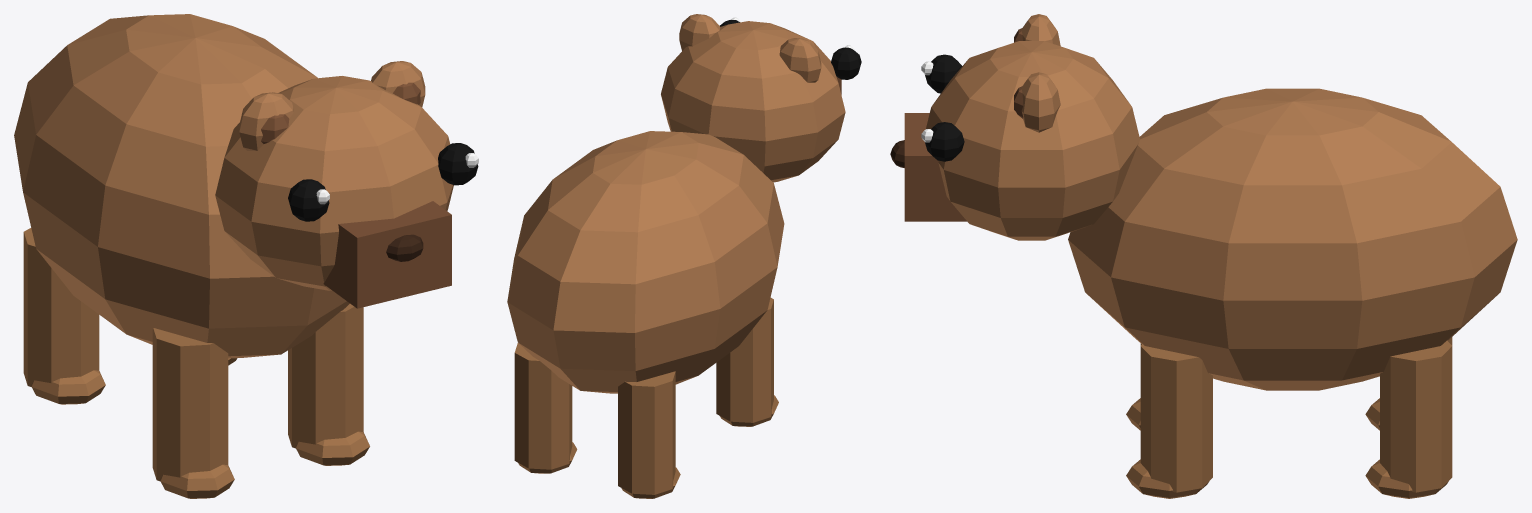
The model's file is capivara.glb.
The picture shows the model from 3 angles, left to right: view 1: azimuth 30°, elevation 25°; view 2: azimuth 150°, elevation 25°; view 3: azimuth 270°, elevation 25°; orthographic projection. The views are drawn at different scales.
Parts seen in each view (by area): view 1: body, head, leg_fr_mesh, snout, leg_fl_mesh, leg_br_mesh, ear_r, leg_fr_foot, leg_br_foot, leg_fl_foot, eye_r, eye_l (+3 smaller); view 2: body, head, leg_br_mesh, leg_bl_mesh, leg_fr_mesh, ear_r, ear_l, eye_r; view 3: body, head, leg_bl_mesh, leg_fl_mesh, snout, ear_l, eye_l, leg_bl_foot, leg_fl_foot, eye_r, ear_r.
Boxes of the visible parts, x1,y1,x2,y2 form: body: [14, 14, 349, 358]; head: [215, 76, 453, 290]; leg_fr_mesh: [152, 328, 228, 481]; snout: [323, 201, 451, 308]; leg_fl_mesh: [288, 303, 363, 448]; leg_br_mesh: [23, 228, 99, 386]; ear_r: [239, 92, 293, 150]; leg_fr_foot: [159, 464, 234, 498]; leg_br_foot: [31, 370, 105, 404]; leg_fl_foot: [295, 431, 369, 465]; eye_r: [288, 179, 329, 221]; eye_l: [438, 143, 478, 185]; body: [507, 131, 784, 393]; head: [661, 21, 845, 182]; leg_br_mesh: [618, 371, 675, 494]; leg_bl_mesh: [514, 343, 572, 469]; leg_fr_mesh: [716, 297, 773, 422]; ear_r: [779, 38, 821, 82]; ear_l: [679, 14, 720, 50]; eye_r: [831, 47, 861, 79]; body: [1068, 88, 1517, 390]; head: [926, 41, 1139, 240]; leg_bl_mesh: [1380, 340, 1452, 492]; leg_fl_mesh: [1140, 344, 1212, 492]; snout: [904, 113, 967, 221]; ear_l: [1021, 72, 1060, 132]; eye_l: [925, 122, 964, 161]; leg_bl_foot: [1365, 459, 1448, 498]; leg_fl_foot: [1126, 459, 1209, 498]; eye_r: [925, 54, 962, 93]; ear_r: [1021, 14, 1060, 46].
Bounding box in the file's own units: 0.7989 × 1.27 × 1.73.
